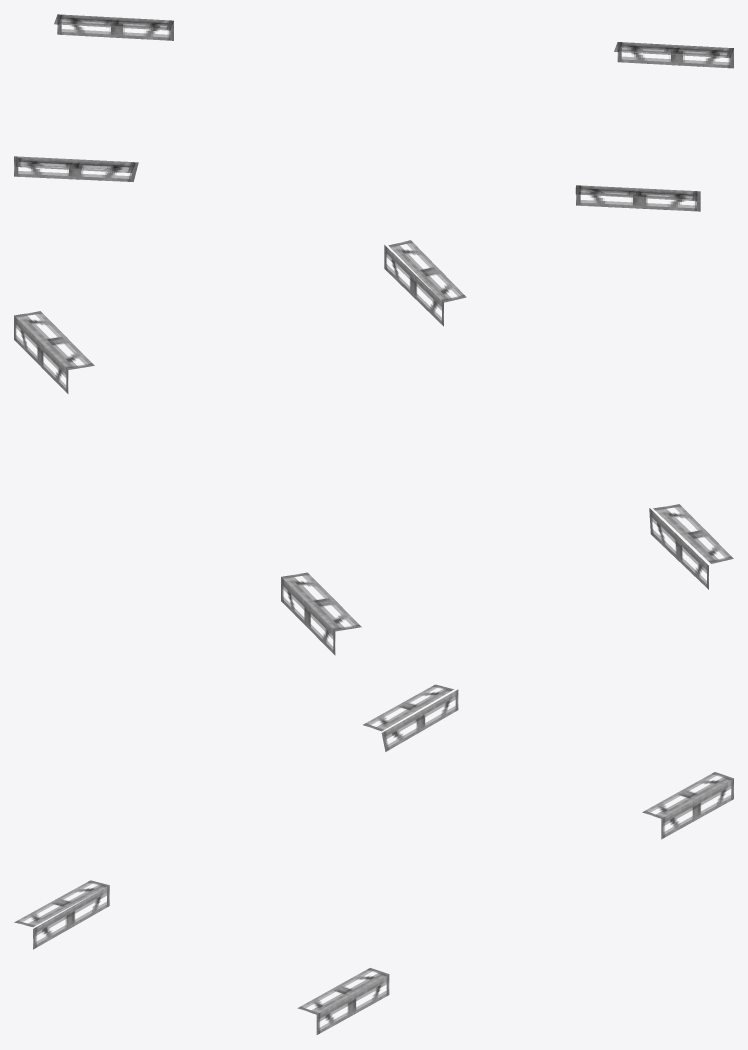
The model's file is Dam_Alpha_103.glb.
3 renders of one model, top to bottom at view 1: azimuth 30°, elevation 25°; view 2: azimuth 150°, elevation 25°; view 3: azimuth 270°, elevation 25°, orthographic. The views are drawn at different scales.
Parts seen in each view (by area): view 1: Dam_Alpha_103; view 2: Dam_Alpha_103; view 3: Dam_Alpha_103.
Boxes of the visible parts, left/top/right/bottom form: Dam_Alpha_103: left=14, top=14, right=733, bottom=211; Dam_Alpha_103: left=14, top=240, right=733, bottom=654; Dam_Alpha_103: left=14, top=684, right=733, bottom=1034.
Bounding box in the file's own units: 25.5 × 0.75 × 23.5.
Materials: 1 (1 with a texture image).
